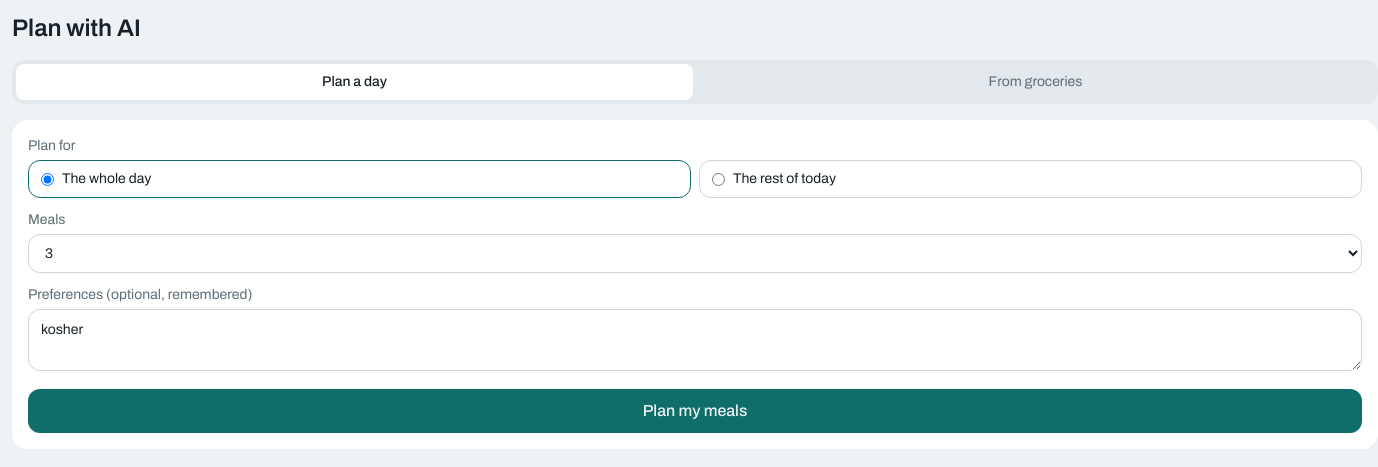
Scenario: PlanWithAi › checks servings before asking
Click the tab "From groceries" at {"x": 1036, "y": 82}, box x1=697 y1=64 x2=1374 y2=100
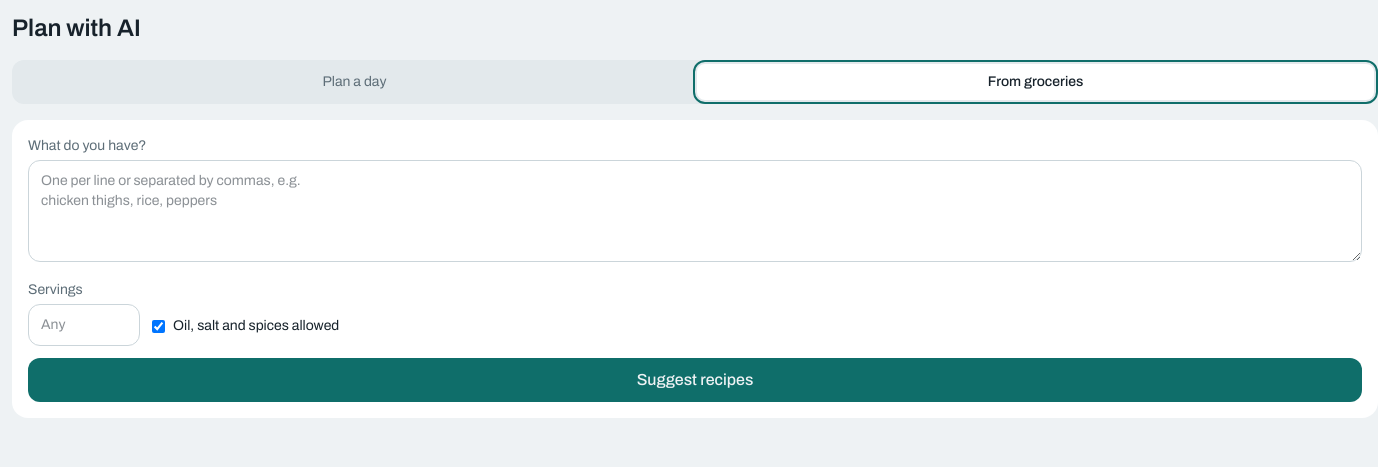
Type "eggs" into the text box labelled "What do you have?" at {"x": 695, "y": 211}, box x1=28 y1=160 x2=1362 y2=262
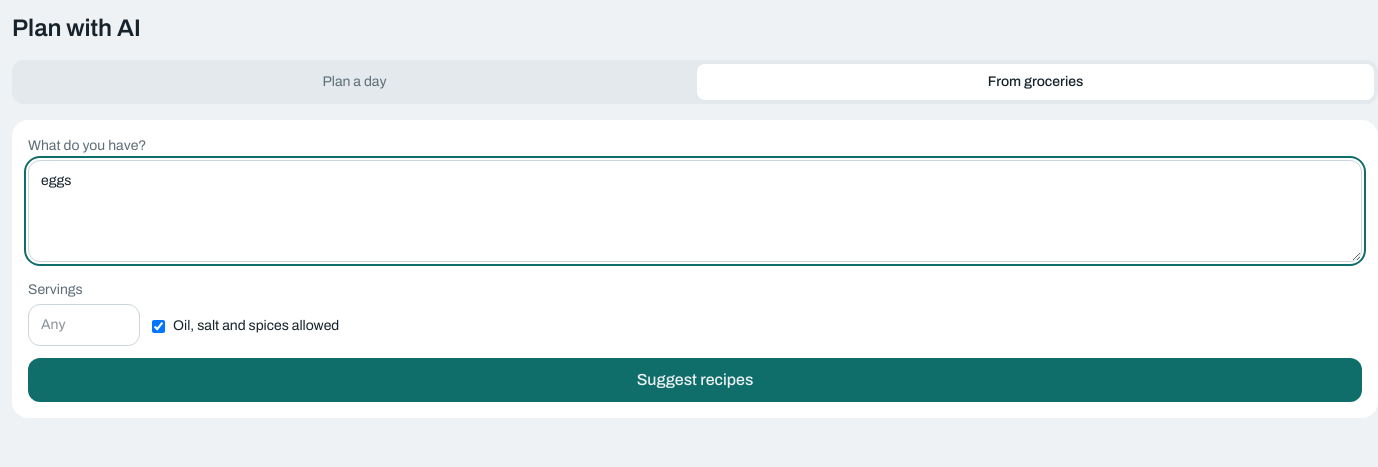
Type "20" into the field labelled "Servings" at {"x": 84, "y": 325}, box x1=28 y1=304 x2=140 y2=346
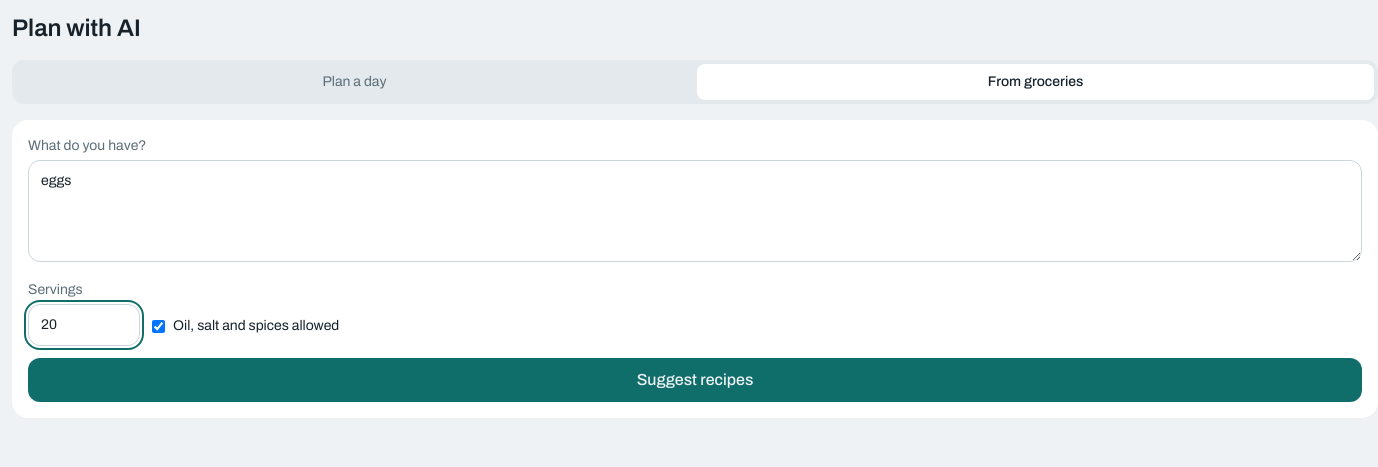
Click the button "Suggest recipes" at {"x": 695, "y": 380}, box x1=28 y1=358 x2=1362 y2=402
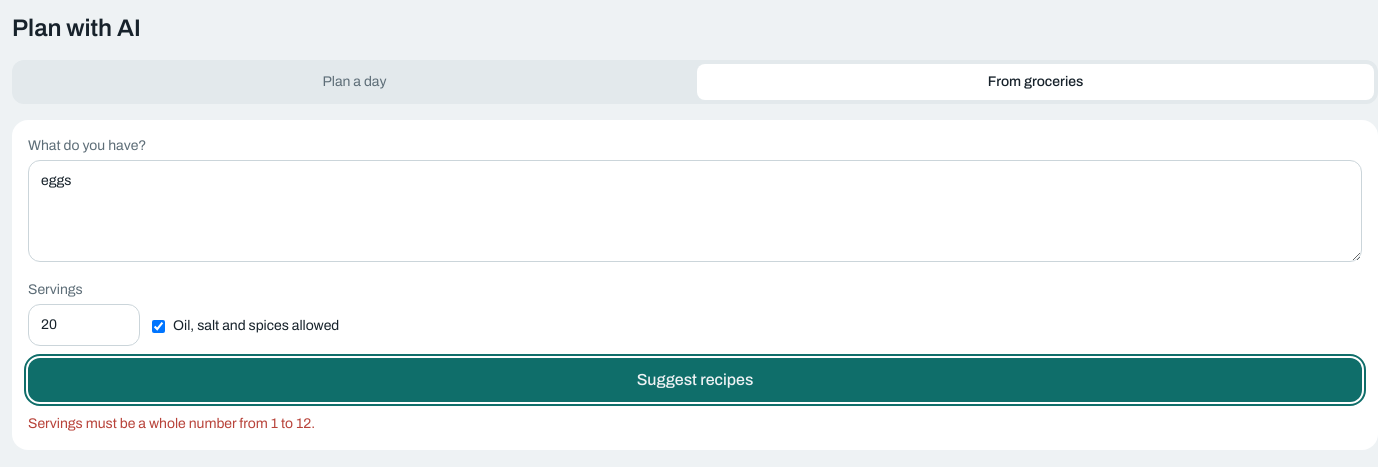
Now the message shows "whole number from 1 to 12", box x1=28 y1=416 x2=315 y2=431
